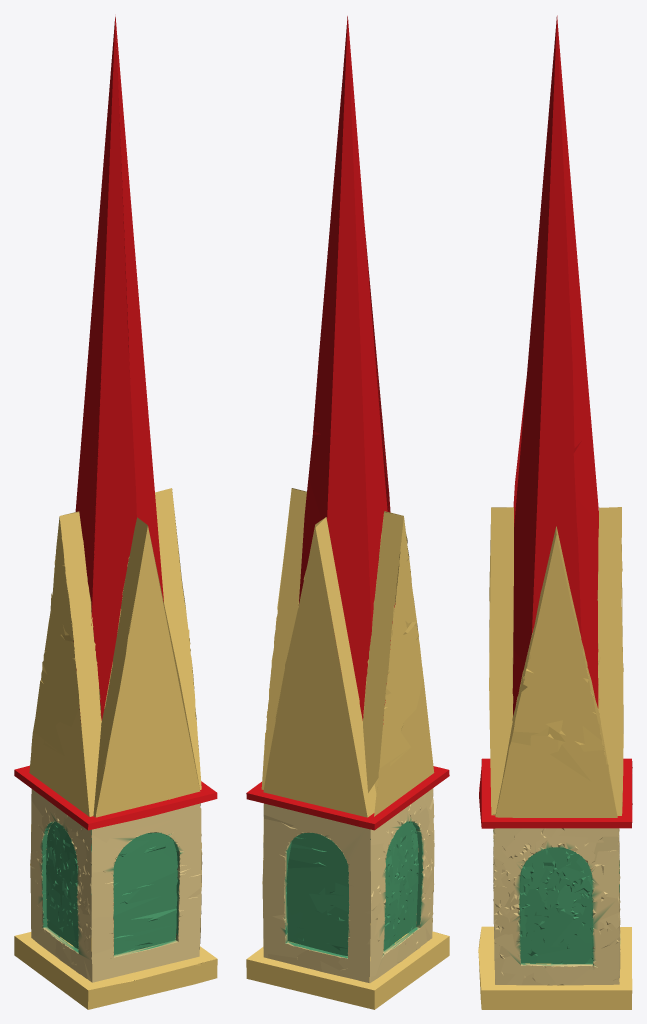
The model's file is Spire_Stock_01.glb.
The picture shows the model from 3 angles, left to right: view 1: azimuth 30°, elevation 25°; view 2: azimuth 150°, elevation 25°; view 3: azimuth 270°, elevation 25°; orthographic projection.
Parts seen in each view (by area): view 1: Spire_Stock_01; view 2: Spire_Stock_01; view 3: Spire_Stock_01.
Boxes of the visible parts, box(x1,y1,x2,y2) form: Spire_Stock_01: box(14, 16, 217, 1009); Spire_Stock_01: box(246, 16, 449, 1009); Spire_Stock_01: box(478, 15, 632, 1009).
Bounding box in the file's own units: 0.5685 × 4 × 0.5806.
